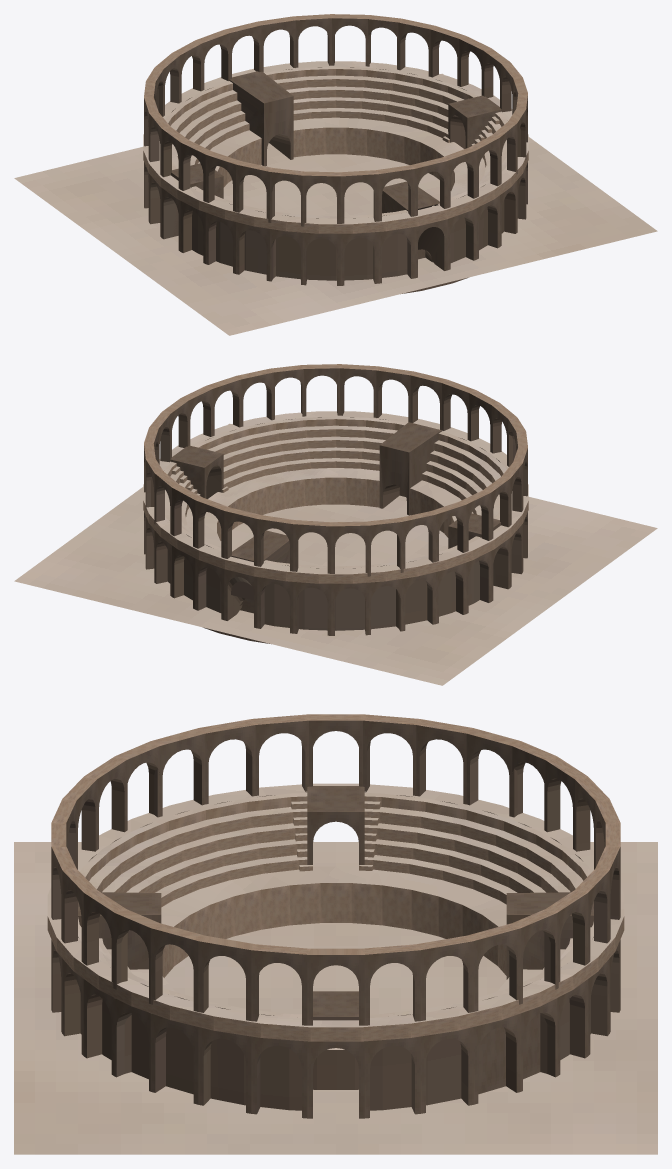
File: Colosseum_.obj
The picture shows the model from 3 angles, top to bottom: view 1: azimuth 30°, elevation 25°; view 2: azimuth 150°, elevation 25°; view 3: azimuth 270°, elevation 25°; orthographic projection. The views are drawn at different scales.
Parts seen in each view (by area): view 1: Arena_draft.lwo; view 2: Arena_draft.lwo; view 3: Arena_draft.lwo.
Part boxes in pixels (bbox=[...]): Arena_draft.lwo: bbox=[14, 14, 657, 335]; Arena_draft.lwo: bbox=[14, 364, 657, 685]; Arena_draft.lwo: bbox=[14, 714, 657, 1154].
Size of the model in its own units: 39.48 by 10.95 by 34.38.
Materials: 1 (1 with a texture image).
